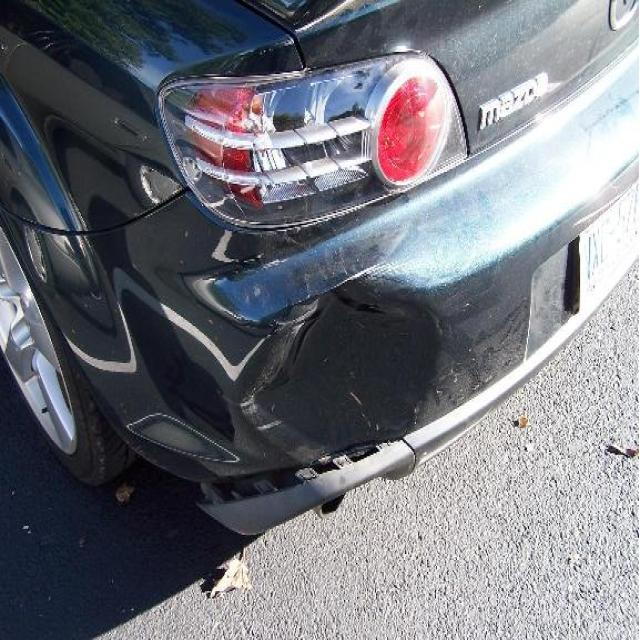dent: (227, 275, 451, 461)
misalignment: (196, 443, 385, 506)
scratch: (240, 255, 399, 439)
